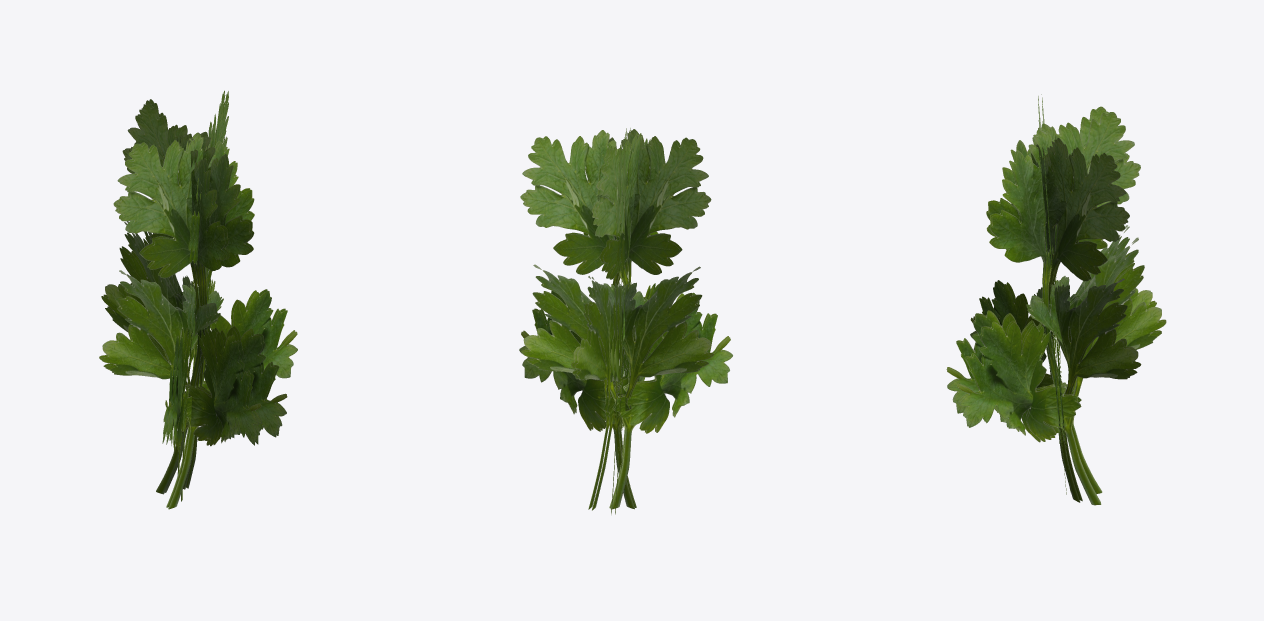
Rendered from Parsley.fbx.
3 views of the same model, side by side, from view 1: azimuth 30°, elevation 25°; view 2: azimuth 150°, elevation 25°; view 3: azimuth 270°, elevation 25° (orthographic). The views are drawn at different scales.
Parts seen in each view (by area): view 1: Parsley 1-650x510; view 2: Parsley 1-650x510; view 3: Parsley 1-650x510.
Part boxes in pixels (x1=…): Parsley 1-650x510: x1=99, y1=90, x2=297, y2=509; Parsley 1-650x510: x1=519, y1=128, x2=732, y2=514; Parsley 1-650x510: x1=946, y1=94, x2=1166, y2=505.
Bounding box in the file's own units: 111 × 139 × 100.
